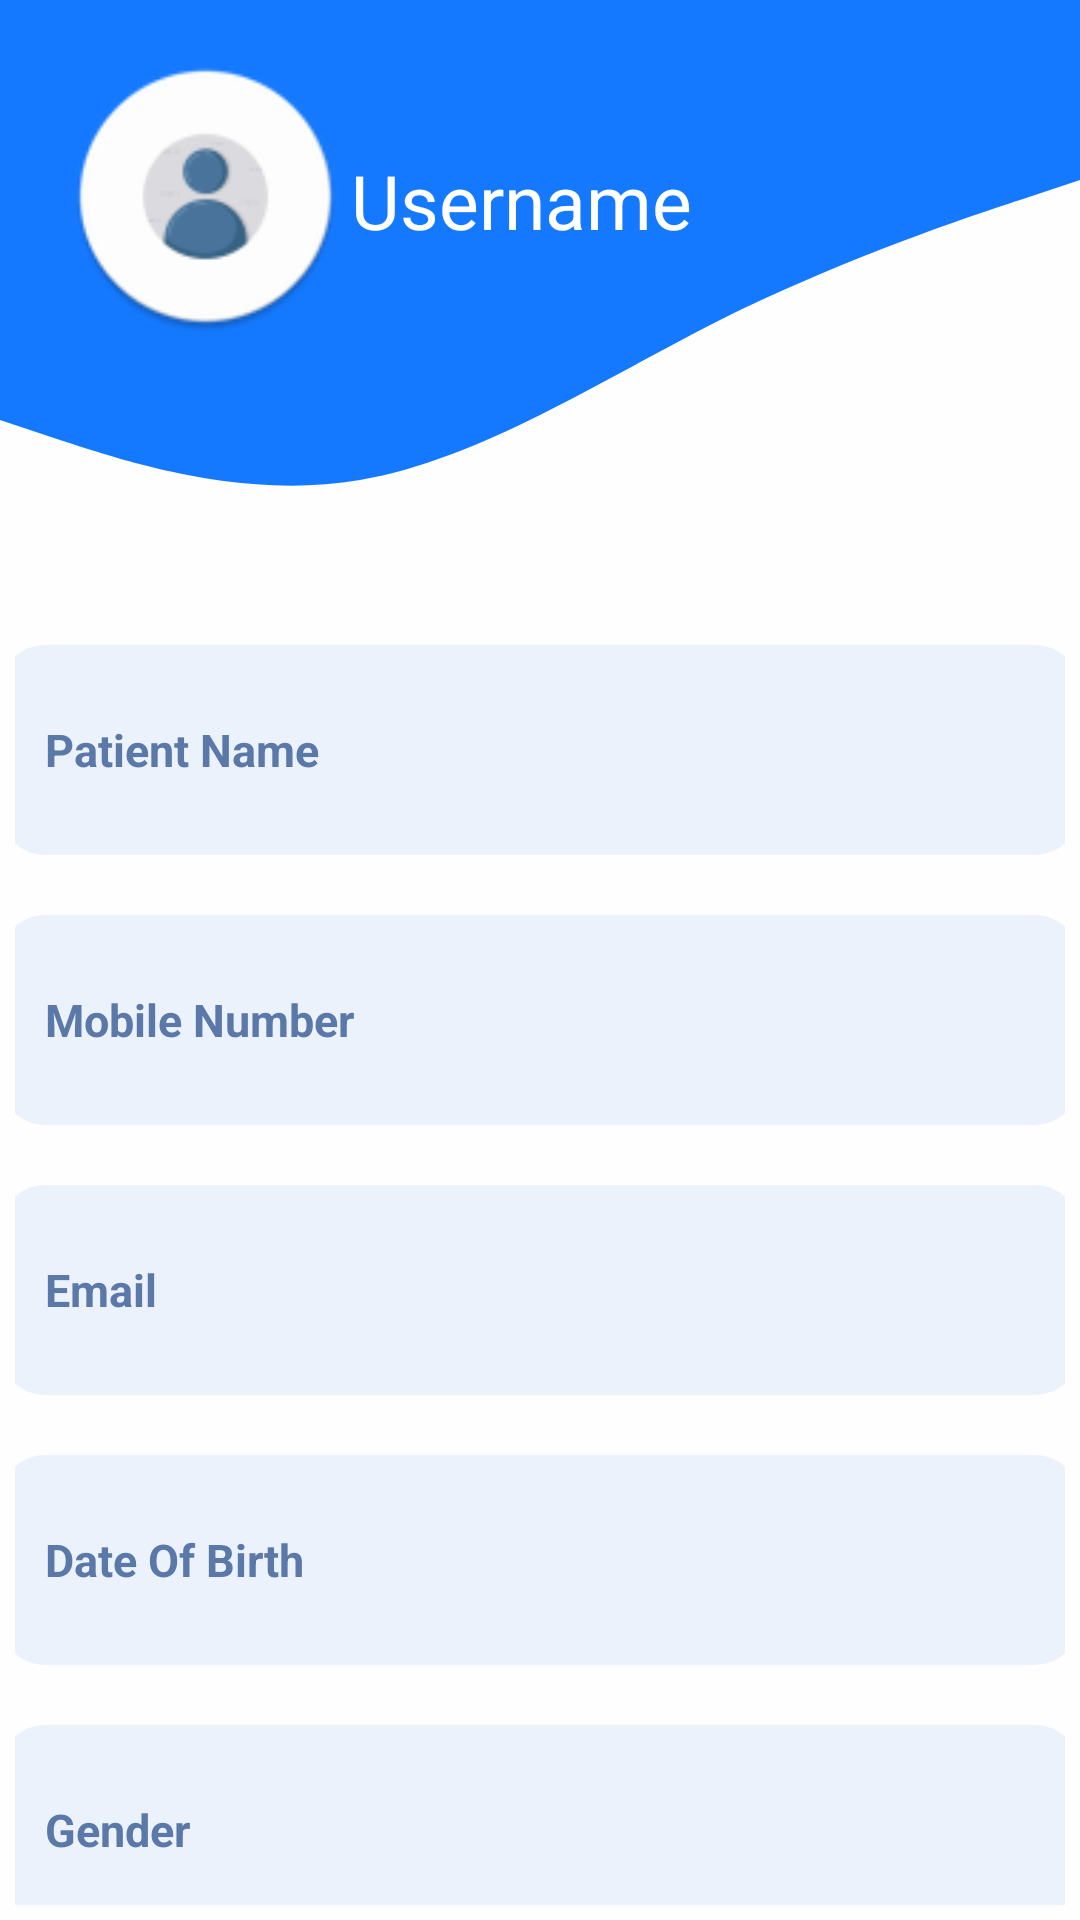

Screen size 1080×1920. Icon name, then its box in pixels as (x1=x1, y1=y1, x2=x2, y2=y2):
profile iconn: (x1=78, y1=69, x2=332, y2=328)
